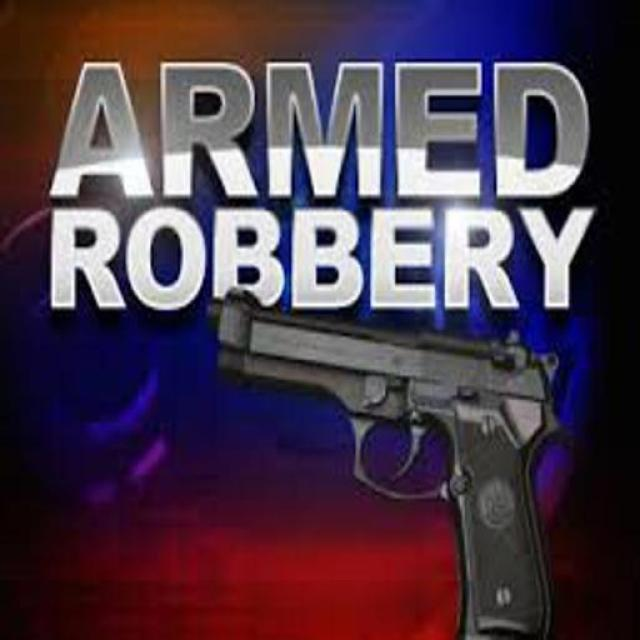pistol: (205, 274, 570, 640)
